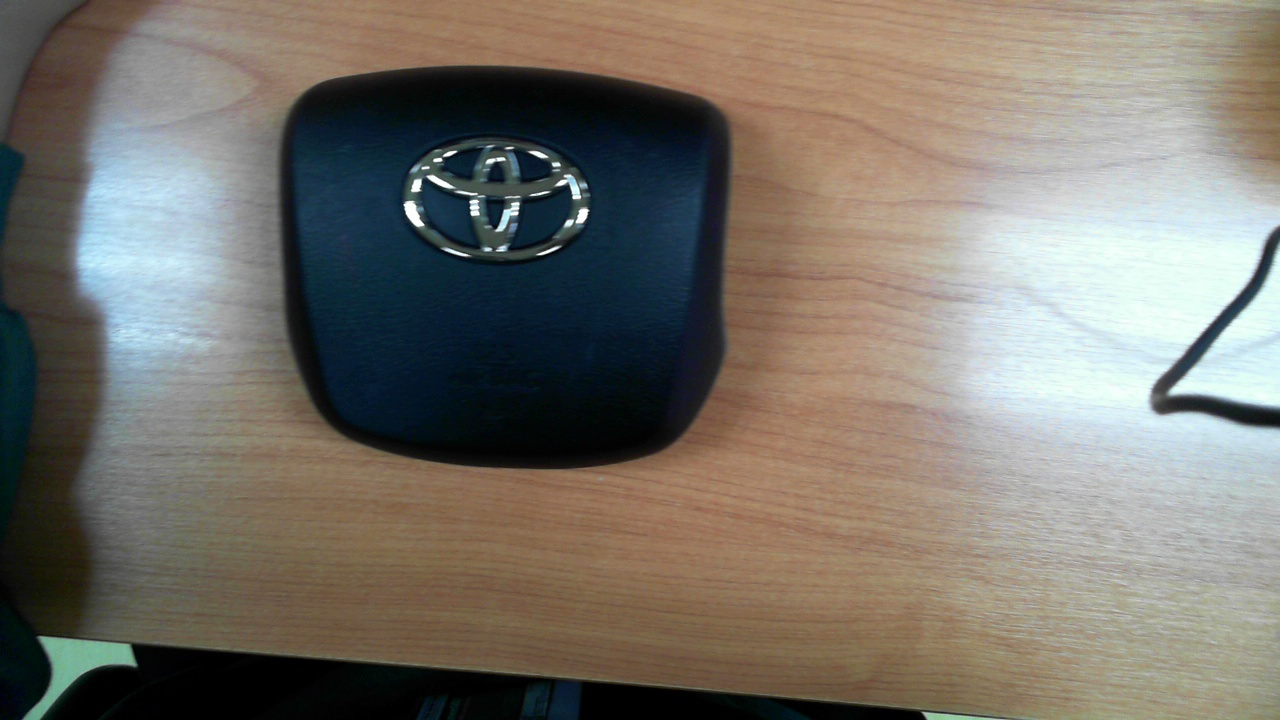Airbag: (277, 65, 732, 471)
Toyota: (403, 137, 590, 262)
